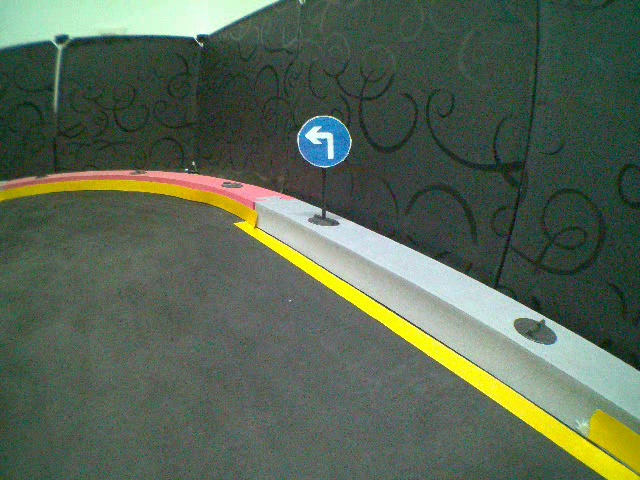turn: (299, 110, 353, 169)
